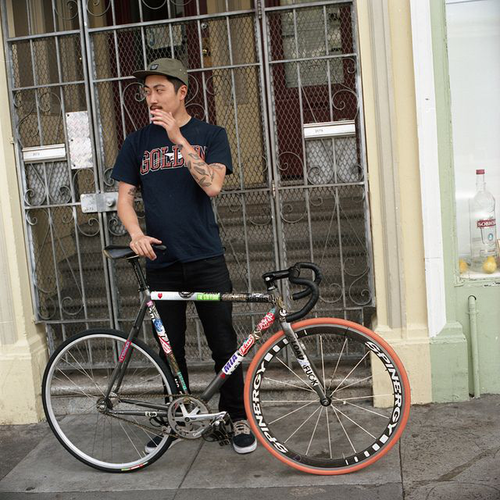bikerider: (14, 62, 429, 472)
